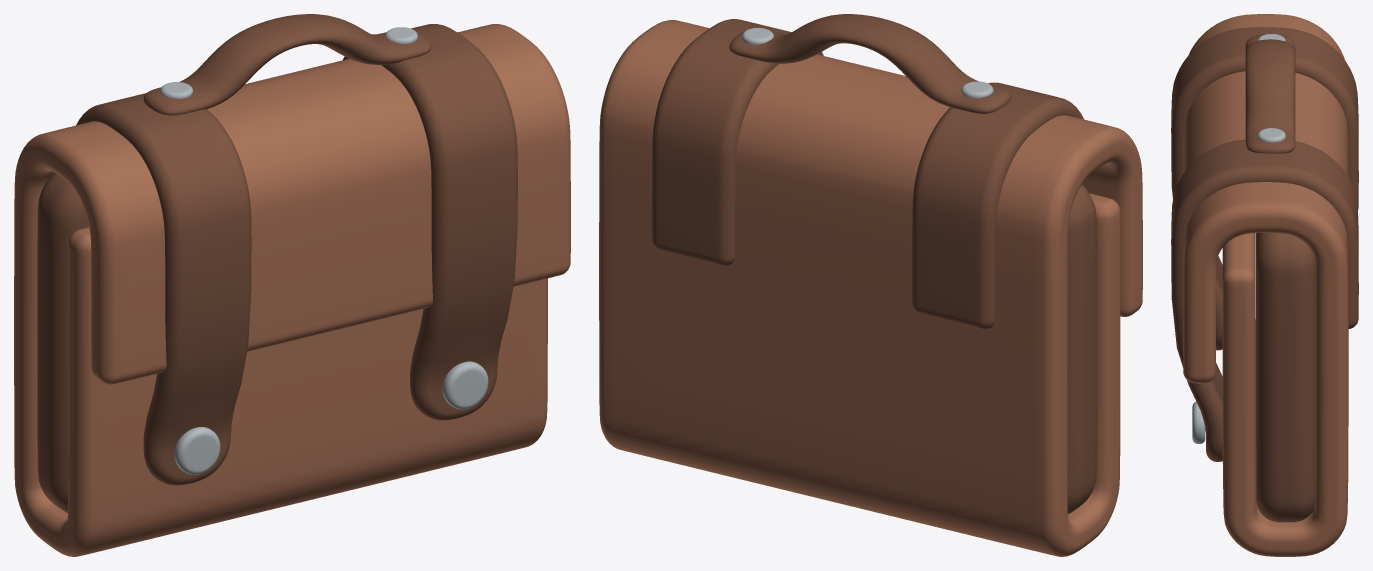
File: suitcase.glb
3 views of the same model, side by side, from view 1: azimuth 30°, elevation 25°; view 2: azimuth 150°, elevation 25°; view 3: azimuth 270°, elevation 25° (orthographic). The views are drawn at different scales.
Visible parts, largest first — view 1: Cube, Cube.002, Cube.001, Plane, Cylinder, Cylinder.001; view 2: Cube, Cube.002, Plane, Cube.001, Cylinder.001; view 3: Cube, Cube.002, Cube.001, Plane, Cylinder.001, Cylinder.
Part boxes in pixels (x1,y1,x2,y2): Cube: (14,24,570,556); Cube.002: (76,24,517,485); Cube.001: (37,173,89,513); Plane: (143,14,431,115); Cylinder: (174,361,488,474); Cylinder.001: (160,27,417,98); Cube: (599,20,1142,556); Cube.002: (652,19,1083,329); Plane: (729,14,1011,113); Cube.001: (1067,184,1096,514); Cylinder.001: (741,28,993,98); Cube: (1183,14,1348,556); Cube.002: (1171,27,1358,461); Cube.001: (1256,233,1315,522); Plane: (1245,33,1295,153); Cylinder.001: (1257,34,1285,142); Cylinder: (1192,402,1205,443).
Size of the model in its own units: 8.7 by 8.39 by 3.49.
